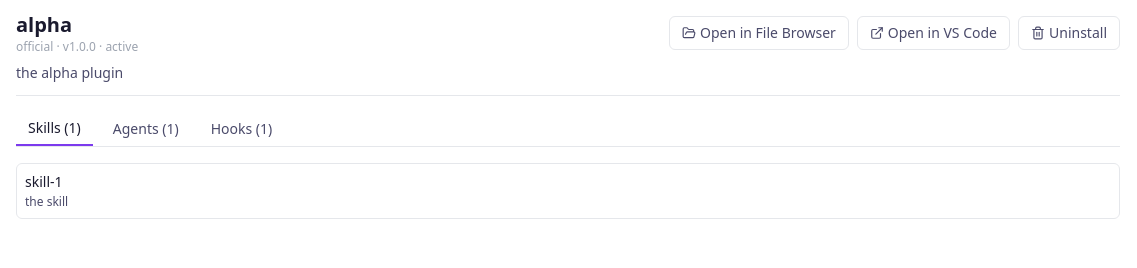
Test case: PluginDetailView › Open in File Browser surfaces an error inline when openShell rejects
Click the button with test id "open-folder-btn" at (759, 33), box [669,16,849,50]
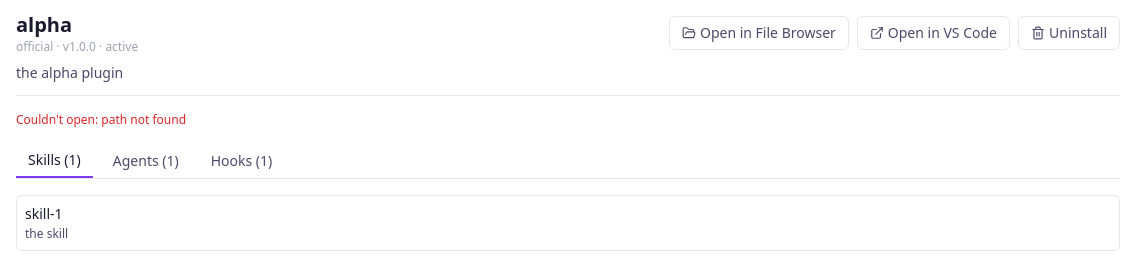
Now the message with test id "plugin-open-error" shows "path not found", box [101,111,186,128]
